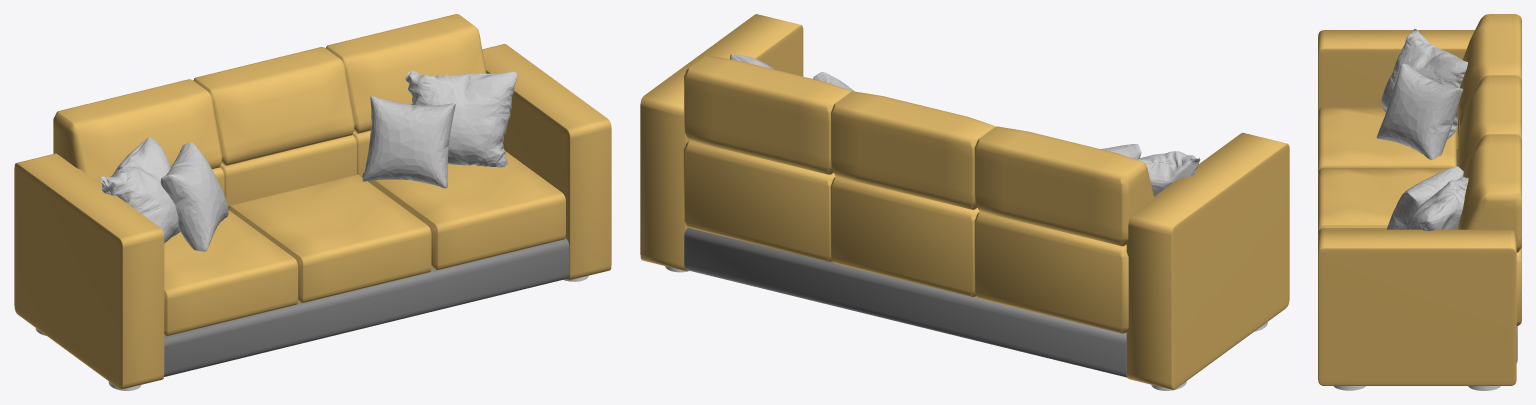
File: Sofa.glb
3 views of the same model, side by side, from view 1: azimuth 30°, elevation 25°; view 2: azimuth 150°, elevation 25°; view 3: azimuth 270°, elevation 25° (orthographic). The views are drawn at different scales.
Visible parts, largest first — view 1: Sofa; view 2: Sofa; view 3: Sofa.
Boxes of the visible parts, x1=… form: Sofa: x1=14, y1=14, x2=611, y2=390; Sofa: x1=640, y1=14, x2=1289, y2=390; Sofa: x1=1318, y1=14, x2=1521, y2=390.
Size of the model in its own units: 1.9 by 0.737 by 0.7483.
